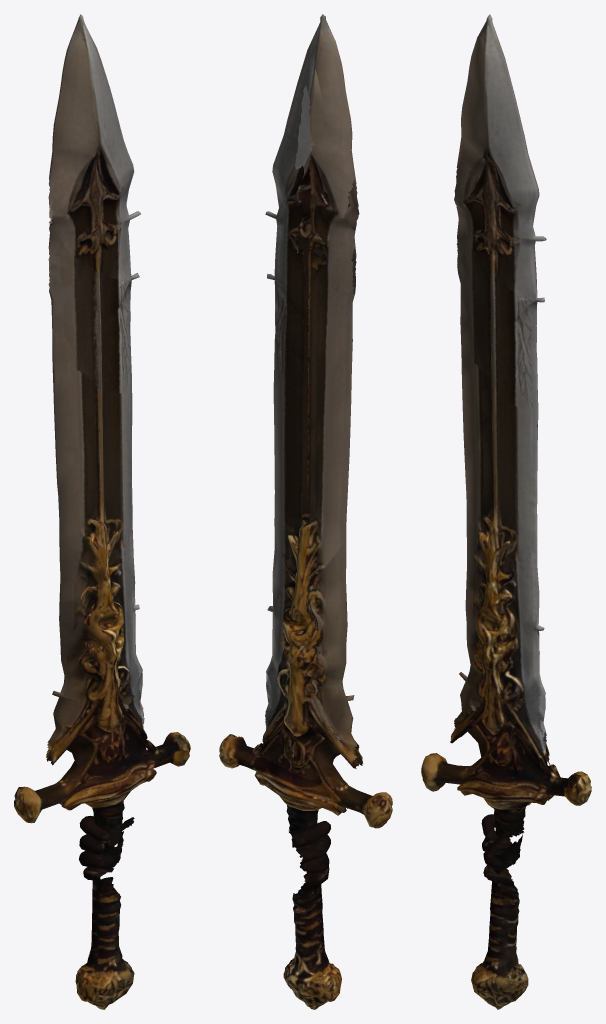
File: thyrandael_sword.glb
3 views of the same model, side by side, from view 1: azimuth 30°, elevation 25°; view 2: azimuth 150°, elevation 25°; view 3: azimuth 330°, elevation 25° (orthographic).
Visible parts, largest first — view 1: tripo_node_ca66fc79.001; view 2: tripo_node_ca66fc79.001; view 3: tripo_node_ca66fc79.001.
Part boxes in pixels (x1,y1,x2,y2): tripo_node_ca66fc79.001: (14,14,190,1009); tripo_node_ca66fc79.001: (219,14,392,1009); tripo_node_ca66fc79.001: (421,14,591,1009).
Bounding box in the file's own units: 0.2688 × 1.49 × 0.1261.
Materials: 1 (1 with a texture image).
